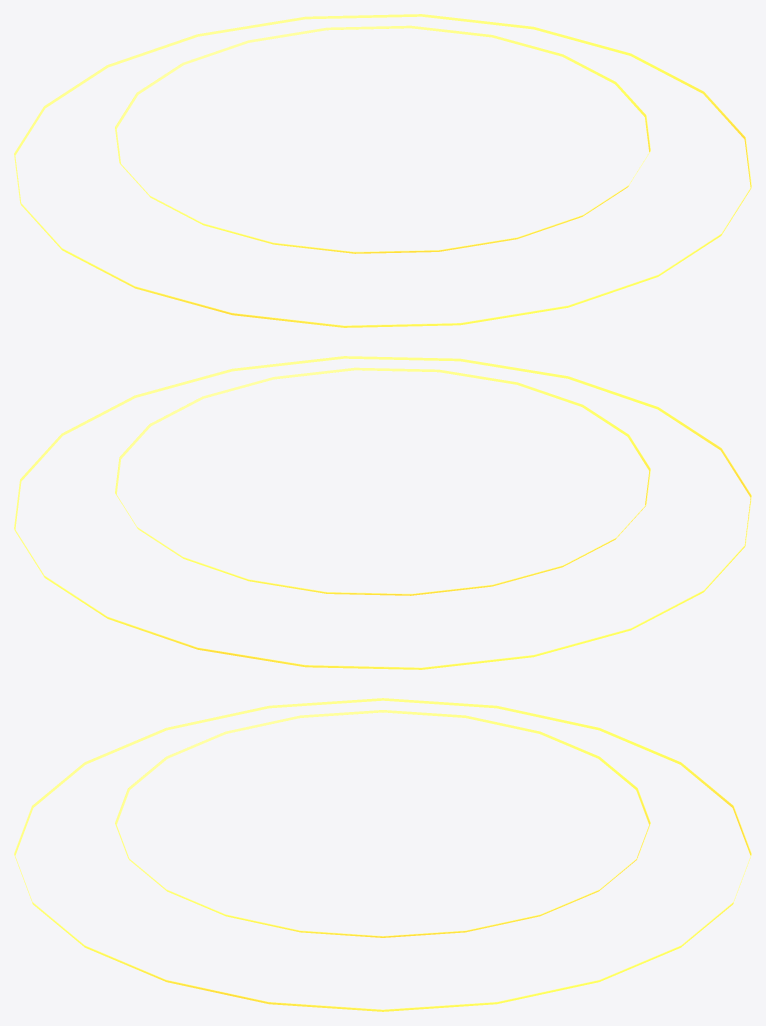
Rendered from SM_RoofLight_01.fbx.
The picture shows the model from 3 angles, top to bottom: view 1: azimuth 30°, elevation 25°; view 2: azimuth 150°, elevation 25°; view 3: azimuth 270°, elevation 25°; orthographic projection.
Visible parts, largest first — view 1: SM_Rooflight_01; view 2: SM_Rooflight_01; view 3: SM_Rooflight_01.
Boxes of the visible parts, x1,y1,x2,y2 form: SM_Rooflight_01: [14, 14, 751, 327]; SM_Rooflight_01: [14, 356, 751, 669]; SM_Rooflight_01: [14, 698, 751, 1011].
Size of the model in its own units: 1393 by 69.39 by 1393.
